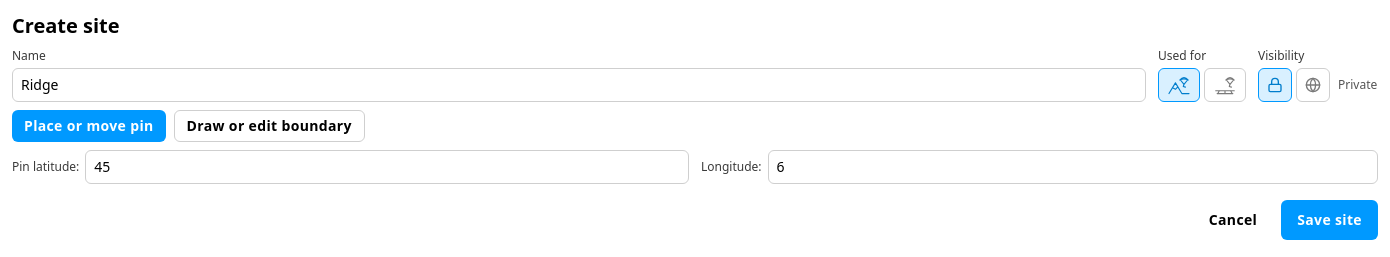
Scenario: keeps the draft visible and shows a returned save conflict
Click the button named "Landing" at (1225,85), box [1204, 68, 1246, 102]
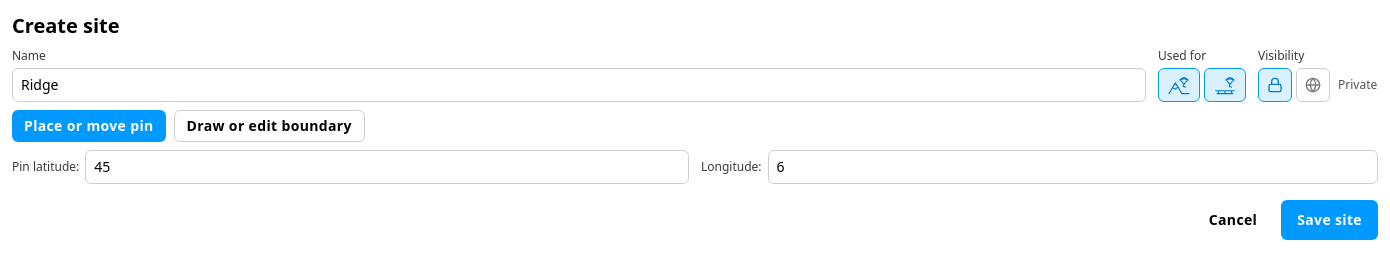
Click the button "Save site" at (1330,220), box [1281, 200, 1378, 240]
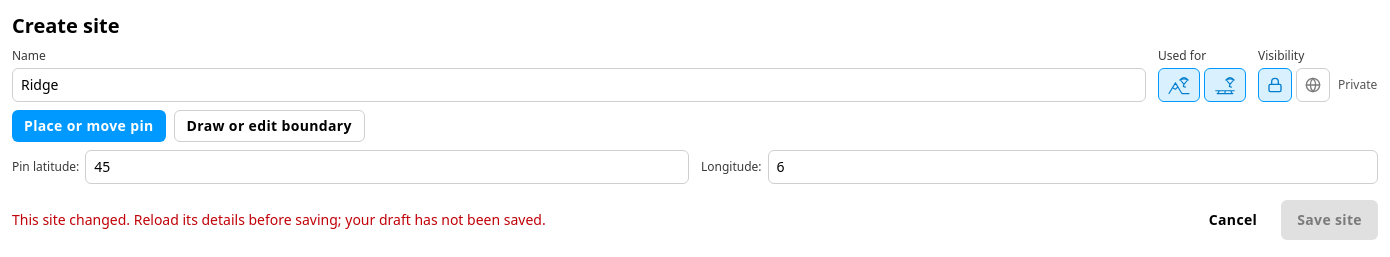
Expected: the button "Cancel" is enabled, [1193, 200, 1273, 240]
Now the message shows "This site changed", box [12, 210, 546, 229]
Now the button "Save site" is disabled, box [1281, 200, 1378, 240]
